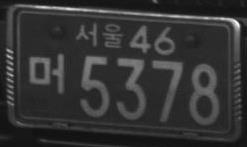3: (114, 56, 147, 122)
4: (128, 23, 152, 54)
5: (78, 53, 111, 119)
6: (152, 25, 176, 56)
7: (150, 58, 184, 123)
8: (187, 61, 221, 127)
머: (26, 52, 66, 95)
서울_O: (75, 21, 125, 50)
